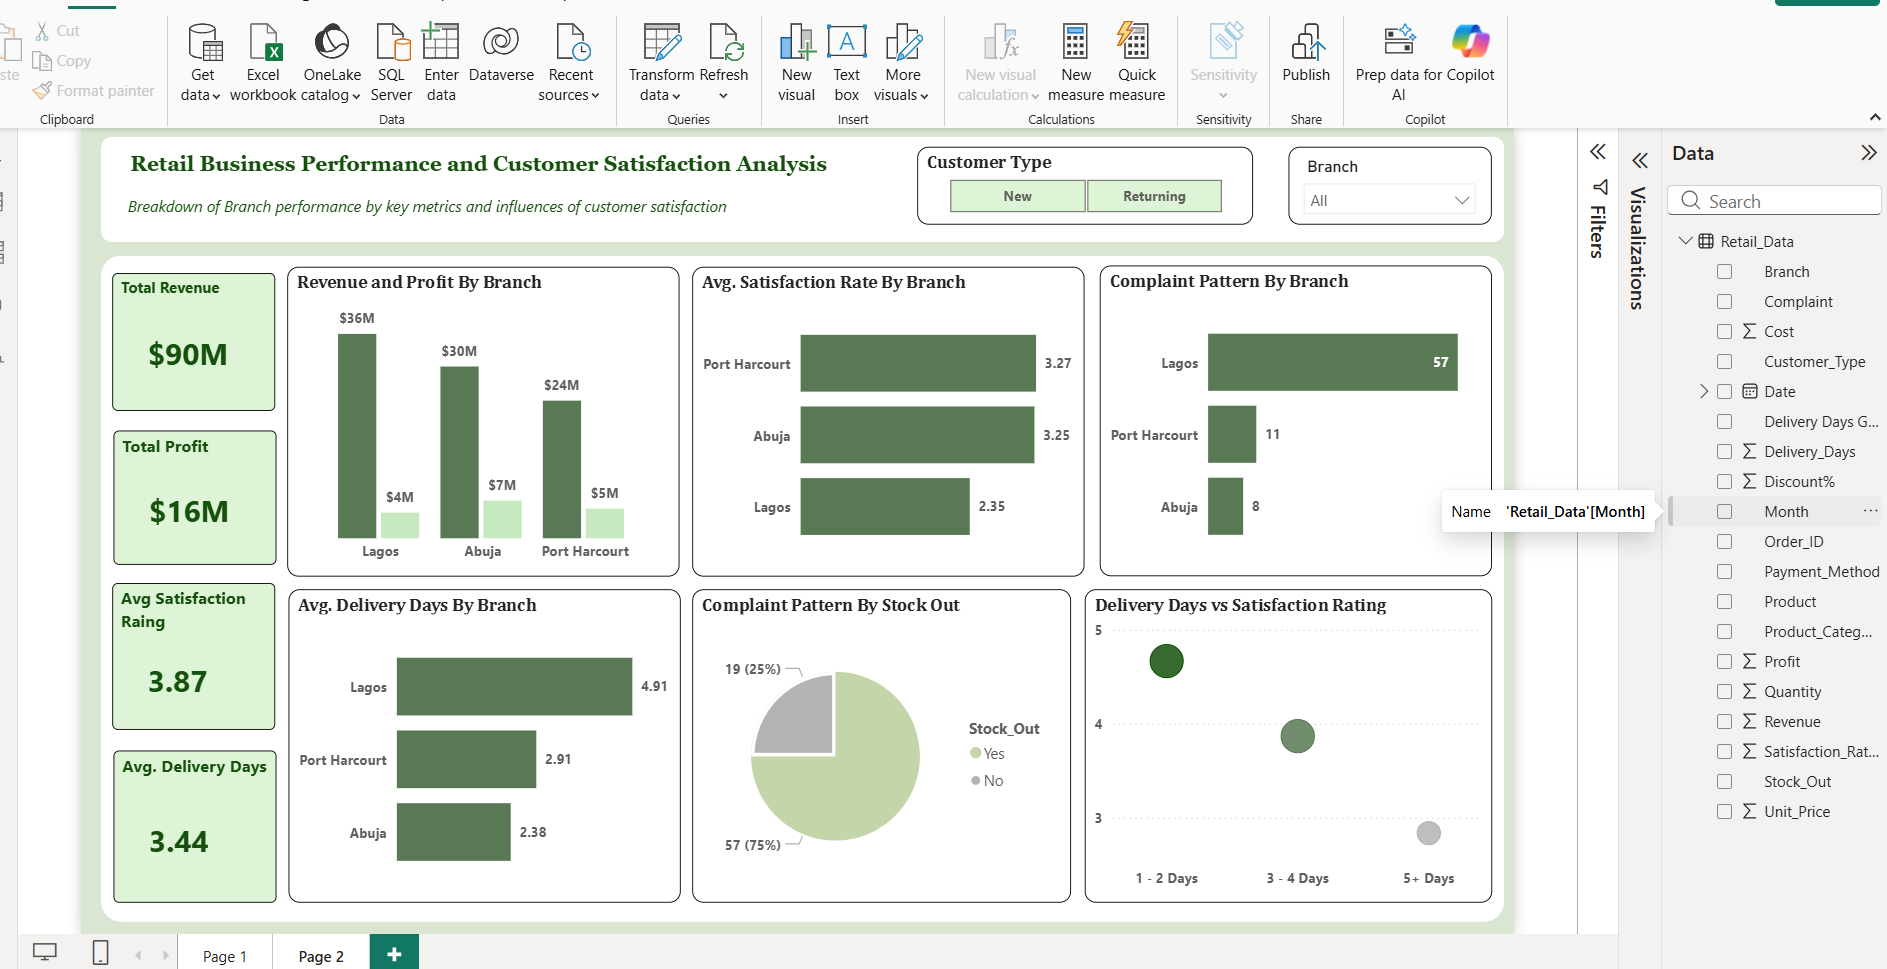

This screenshot's page, from the dashboard's own definition file:
{"tool":"powerbi","page":{"name":"Page 2","canvas":[1280,720],"ordinal":0},"visuals":[{"type":"shape","box":[17.4,114,1253.5,595.4],"z":0},{"type":"shape","box":[17.4,8.1,1253.5,94.2],"z":1000},{"type":"cardVisual","title":"Total Revenue","fields":{"Data":["Sum(Retail_Data.Revenue)"]},"box":[27.9,129.1,145.3,123.3],"z":2000},{"type":"cardVisual","title":"Avg Satisfaction Raing","fields":{"Data":["Avg(Retail_Data.Satisfaction_Rating)"]},"box":[27.9,407,145.3,131.4],"z":3000},{"type":"cardVisual","title":"Total Profit","fields":{"Data":["Sum(Retail_Data.Profit)"]},"box":[29.1,269.8,145.3,119.8],"z":4000},{"type":"cardVisual","title":"Avg. Delivery Days","fields":{"Data":["Avg(Retail_Data.Delivery_Days)"]},"box":[29.1,555.8,145.3,136],"z":5000},{"type":"clusteredColumnChart","title":"Revenue and Profit By Branch","fields":{"Category":["Retail_Data.Branch"],"Y":["Sum(Retail_Data.Revenue)","Sum(Retail_Data.Profit)"]},"box":[183.7,124.4,350,276.7],"z":6000},{"type":"barChart","title":"Complaint Pattern By Branch","fields":{"Category":["Retail_Data.Branch"],"Y":["CountNonNull(Retail_Data.Complaint)"]},"box":[910.5,123.3,350,277.9],"z":7000},{"type":"barChart","title":"Avg. Satisfaction Rate By Branch","fields":{"Category":["Retail_Data.Branch"],"Y":["Avg(Retail_Data.Satisfaction_Rating)"]},"box":[546.5,124.4,350,276.7],"z":8000},{"type":"barChart","title":"Avg. Delivery Days By Branch","fields":{"Category":["Retail_Data.Branch"],"Y":["Avg(Retail_Data.Delivery_Days)"]},"box":[184.9,411.6,350,280.2],"z":9000},{"type":"pieChart","title":"Complaint Pattern By Stock Out","fields":{"Category":["Retail_Data.Stock_Out"],"Y":["CountNonNull(Retail_Data.Complaint)"]},"box":[546.5,411.6,338.4,280.2],"z":10000},{"type":"scatterChart","title":"Delivery Days vs Satisfaction Rating","fields":{"Y":["Avg(Retail_Data.Satisfaction_Rating)"],"X":["Retail_Data.Delivery Days Group"],"Size":["Sum(Retail_Data.Satisfaction_Rating)"]},"box":[896.5,411.6,364,280.2],"z":11000},{"type":"textbox","box":[29.1,16.3,652.3,76.7],"z":12000},{"type":"slicer","fields":{"Values":["Retail_Data.Branch"]},"box":[1079.1,16.3,181.4,69.8],"z":13000},{"type":"slicer","title":"Customer Type","fields":{"Values":["Retail_Data.Customer_Type"]},"box":[746.5,16.3,300,69.8],"z":14000}]}

Visuals, with their boxes on the page's 1280x720 design canvas (x1, y1, x2, y2). These are canvas units, not pixel positions in the 1887x969 screenshot, which may show the page scaled, cropped or inside an application window:
shape: bbox=[17, 114, 1271, 709]
shape: bbox=[17, 8, 1271, 102]
"Total Revenue" cardVisual: bbox=[28, 129, 173, 252]
"Avg Satisfaction Raing" cardVisual: bbox=[28, 407, 173, 538]
"Total Profit" cardVisual: bbox=[29, 270, 174, 390]
"Avg. Delivery Days" cardVisual: bbox=[29, 556, 174, 692]
"Revenue and Profit By Branch" clusteredColumnChart: bbox=[184, 124, 534, 401]
"Complaint Pattern By Branch" barChart: bbox=[910, 123, 1260, 401]
"Avg. Satisfaction Rate By Branch" barChart: bbox=[546, 124, 896, 401]
"Avg. Delivery Days By Branch" barChart: bbox=[185, 412, 535, 692]
"Complaint Pattern By Stock Out" pieChart: bbox=[546, 412, 885, 692]
"Delivery Days vs Satisfaction Rating" scatterChart: bbox=[896, 412, 1260, 692]
textbox: bbox=[29, 16, 681, 93]
slicer - Retail_Data.Branch: bbox=[1079, 16, 1260, 86]
"Customer Type" slicer: bbox=[746, 16, 1046, 86]
